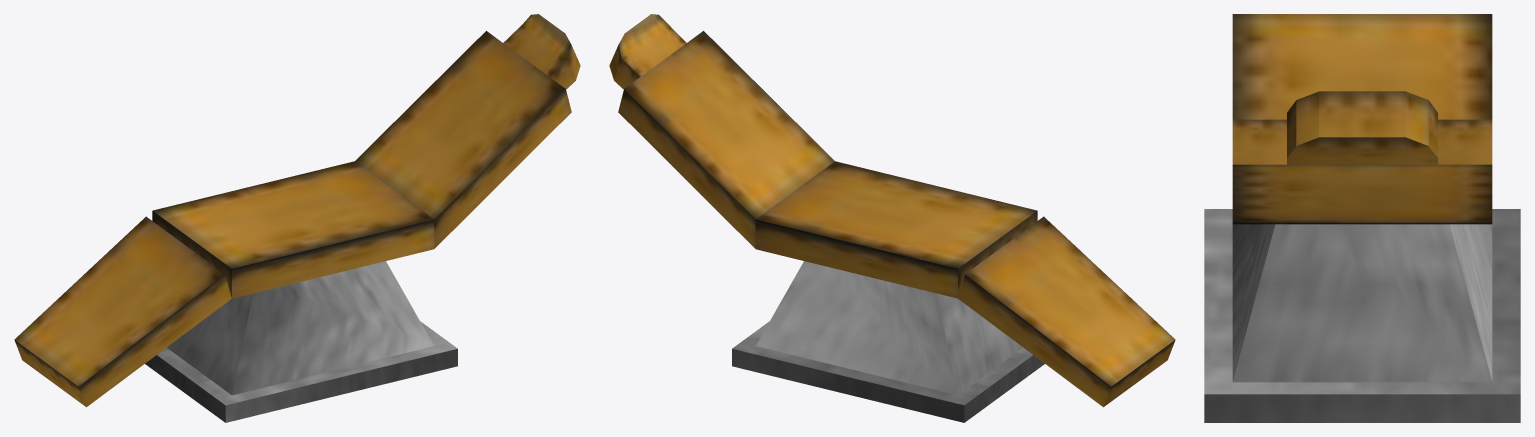
Rendered from chair_dentist.glb.
3 renders of one model, left to right at view 1: azimuth 30°, elevation 25°; view 2: azimuth 150°, elevation 25°; view 3: azimuth 270°, elevation 25°, orthographic. The views are drawn at different scales.
Visible parts, largest first — view 1: OperatingTableReclined; view 2: OperatingTableReclined; view 3: OperatingTableReclined.
Part boxes in pixels (x1=…): OperatingTableReclined: x1=14, y1=14, x2=580, y2=422; OperatingTableReclined: x1=609, y1=14, x2=1175, y2=422; OperatingTableReclined: x1=1204, y1=14, x2=1520, y2=422.
Size of the model in its own units: 3.83 by 1.93 by 1.25.
Materials: 1 (1 with a texture image).
